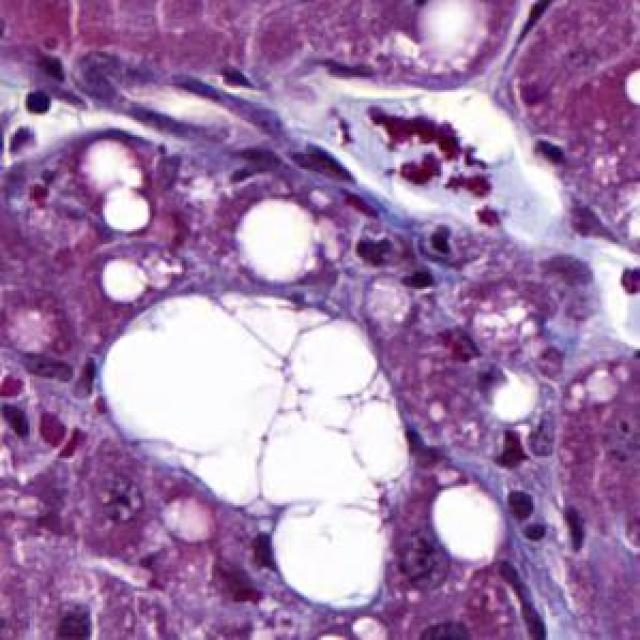ballooning: (97, 287, 416, 614)
